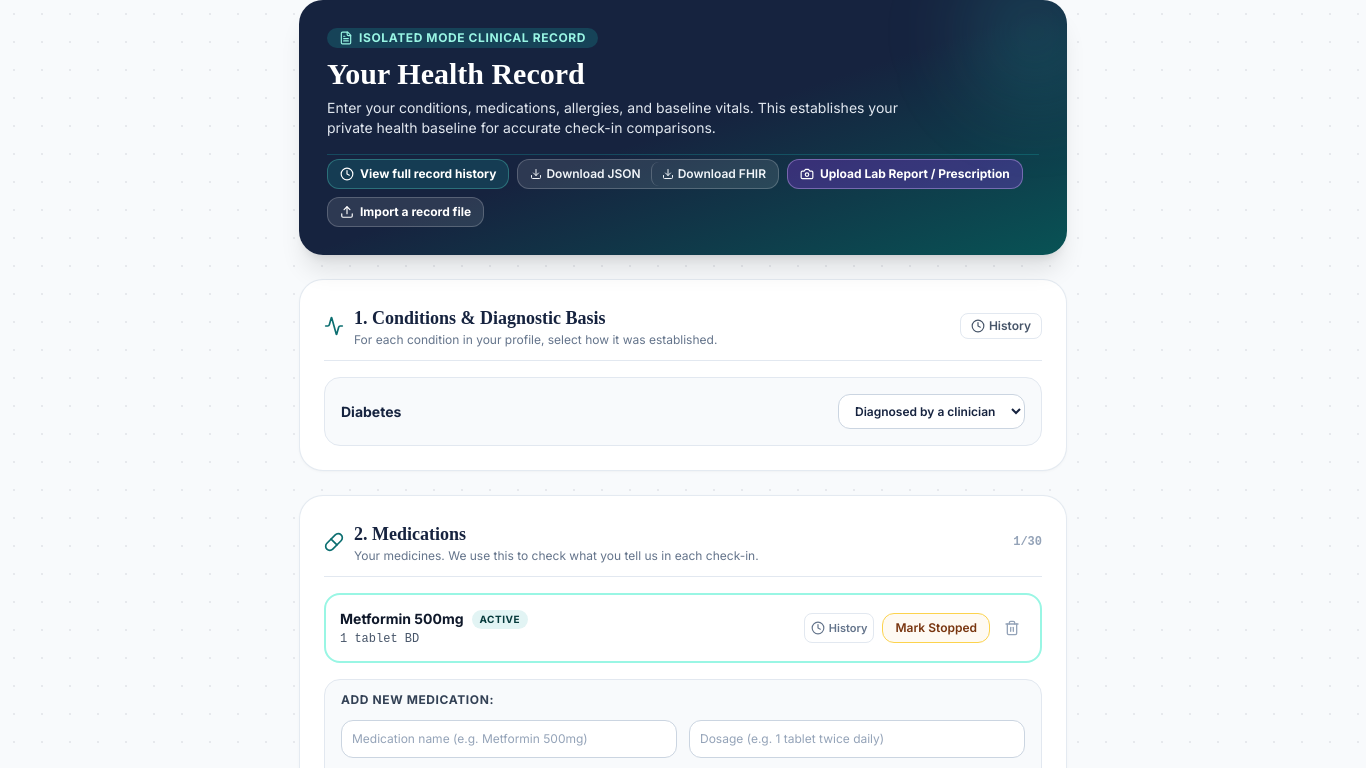
it: Record History UI (HealthRecordScreen) › renders history button on medication item and opens history modal with badges
Expected: the text "Metformin 500mg" is shown, left=340, top=609, right=464, bottom=629
Click the button with test id "med-history-btn-med-1".
click(839, 628)  # box left=804, top=613, right=874, bottom=643
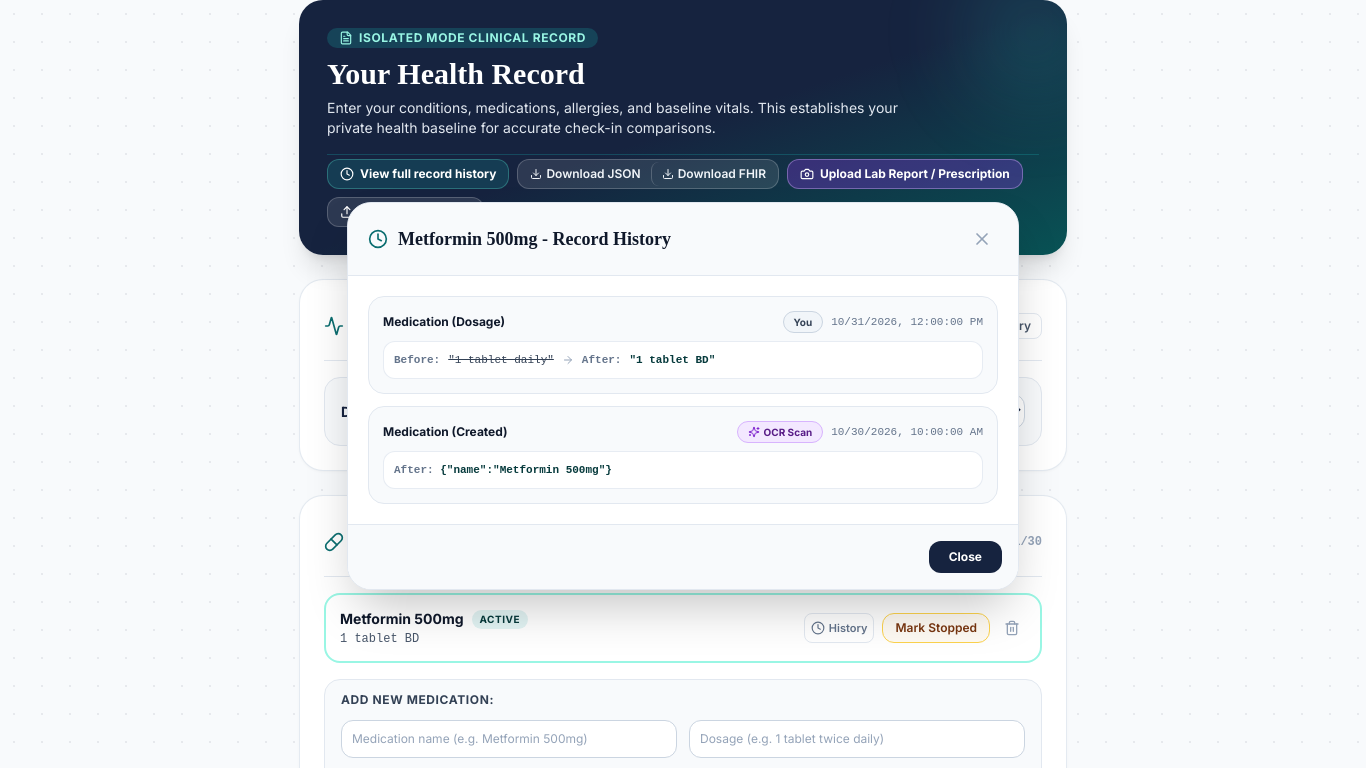
Expected: the dialog with test id "record-history-modal" is shown, left=347, top=202, right=1019, bottom=590
Expected: the number of elements with test id "history-edit-row" is 2, left=368, top=296, right=998, bottom=394; left=368, top=406, right=998, bottom=504
Expected: the text "OCR Scan" is shown, left=737, top=421, right=823, bottom=443
// Verify Esc key closes modal
Press Escape
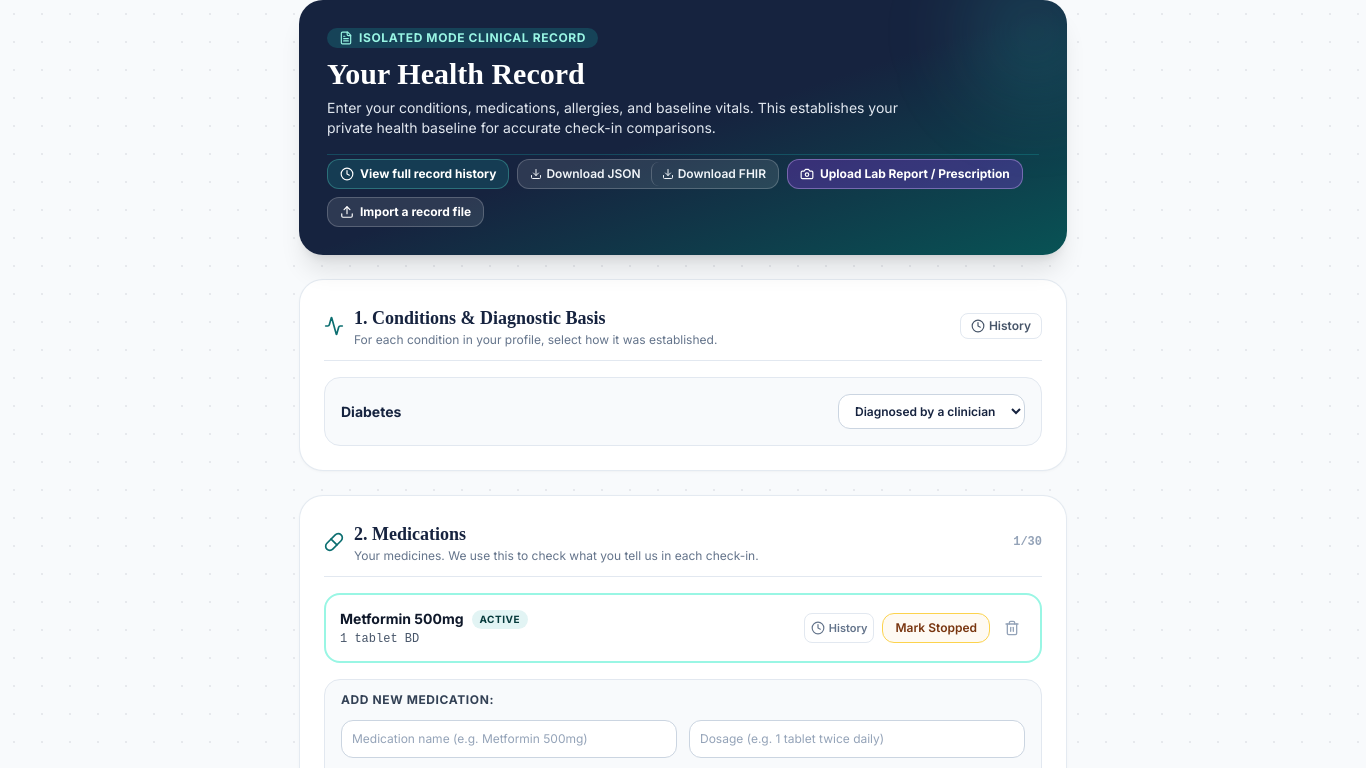
Expected: the dialog with test id "record-history-modal" is gone
